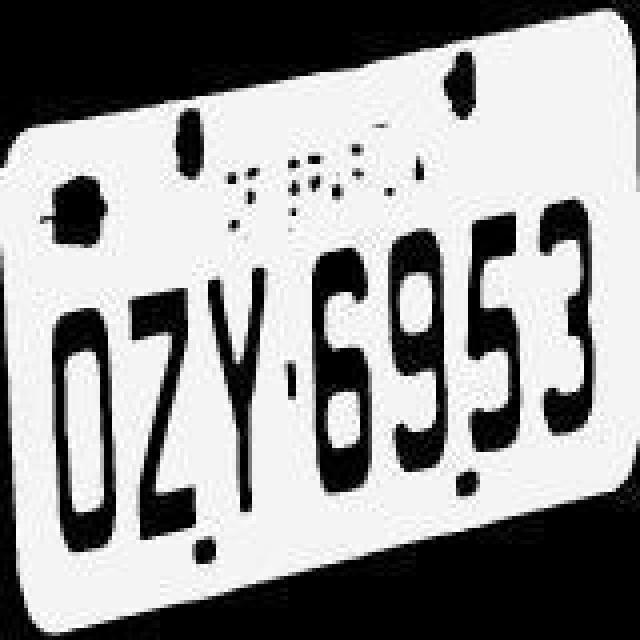3: (526, 178, 602, 438)
5: (454, 194, 530, 462)
6: (304, 230, 376, 490)
9: (384, 224, 448, 480)
O: (44, 294, 116, 554)
Y: (204, 250, 276, 518)
Z: (128, 272, 200, 536)
